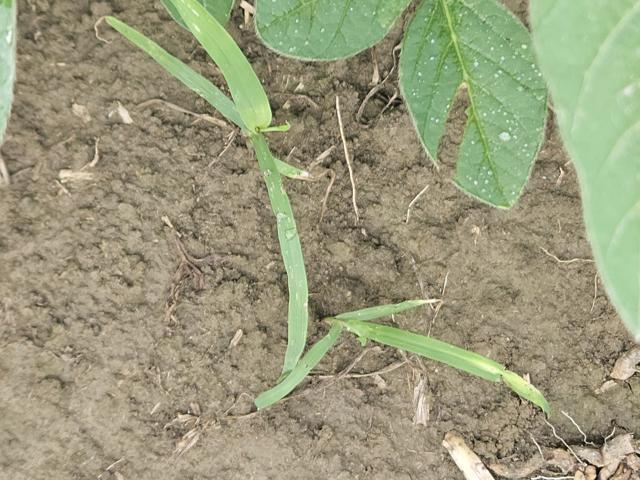bad weed: (113, 9, 339, 374), (233, 301, 552, 416)
